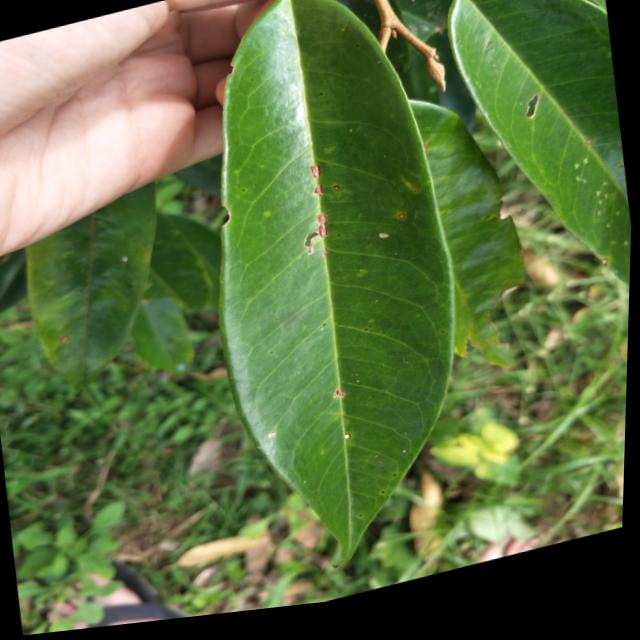Leaf Spot: (279, 155, 371, 276)
